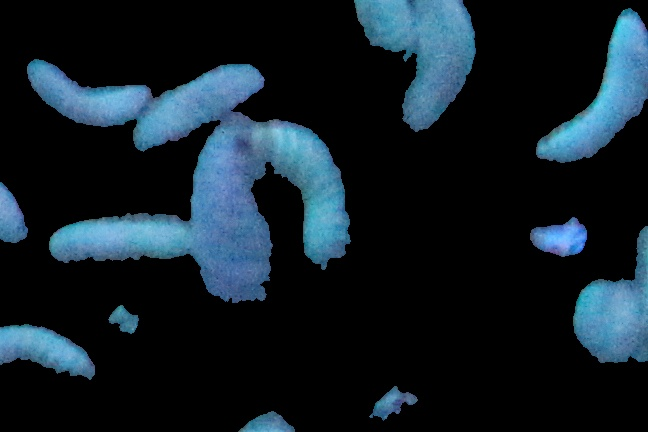larvae: (184, 116, 291, 347), (535, 10, 648, 167), (132, 57, 270, 157), (262, 119, 354, 266), (28, 45, 151, 137), (403, 1, 478, 137), (49, 203, 197, 270), (1, 324, 99, 397), (351, 1, 434, 70), (1, 155, 43, 259)
